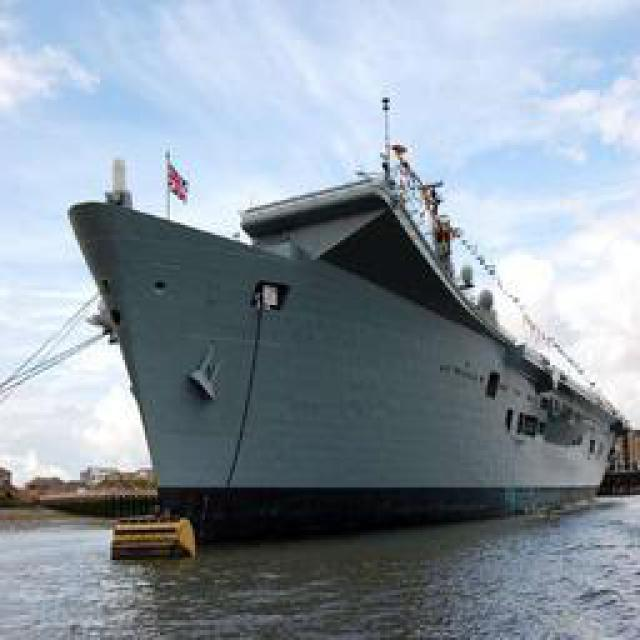Ship: (66, 114, 624, 524)
